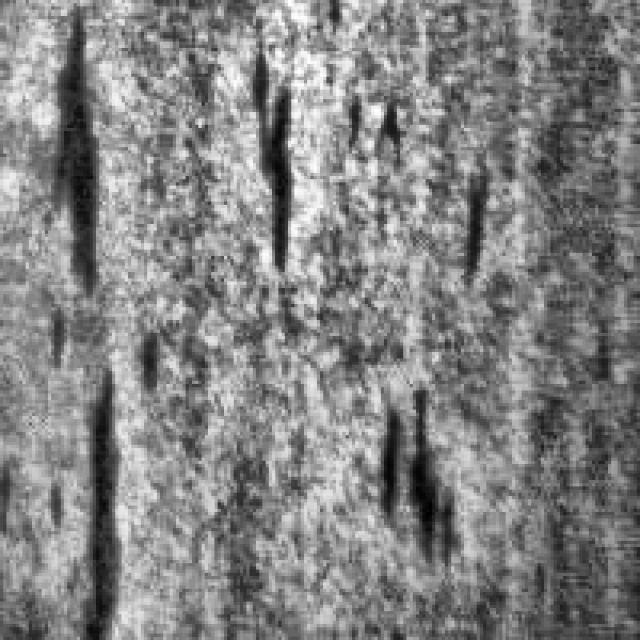Patches: (22, 3, 118, 294), (218, 25, 314, 278), (54, 348, 134, 630), (365, 378, 464, 586), (432, 134, 506, 320), (333, 93, 406, 173)
